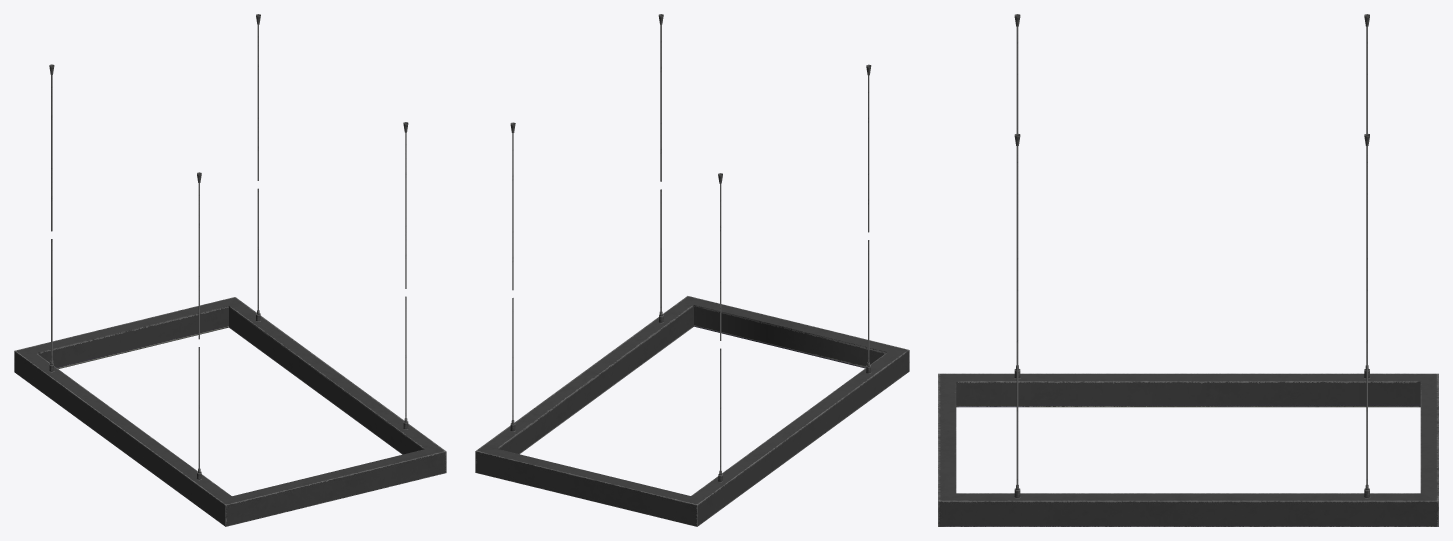
File: lampara_cuadrada.glb
The picture shows the model from 3 angles, left to right: view 1: azimuth 30°, elevation 25°; view 2: azimuth 150°, elevation 25°; view 3: azimuth 270°, elevation 25°; orthographic projection. The views are drawn at different scales.
Parts seen in each view (by area): view 1: squarelamp, squarelight; view 2: squarelamp, squarelight; view 3: squarelamp, squarelight.
Boxes of the visible parts, x1=… form: squarelamp: x1=14, y1=188, x2=446, y2=526; squarelight: x1=49, y1=14, x2=408, y2=339; squarelamp: x1=475, y1=189, x2=909, y2=526; squarelight: x1=510, y1=14, x2=871, y2=340; squarelamp: x1=938, y1=331, x2=1438, y2=526; squarelight: x1=1014, y1=14, x2=1369, y2=331.
Bounding box in the file's own units: 1.75 × 2.48 × 2.9.
Materials: 1 (1 with a texture image).
